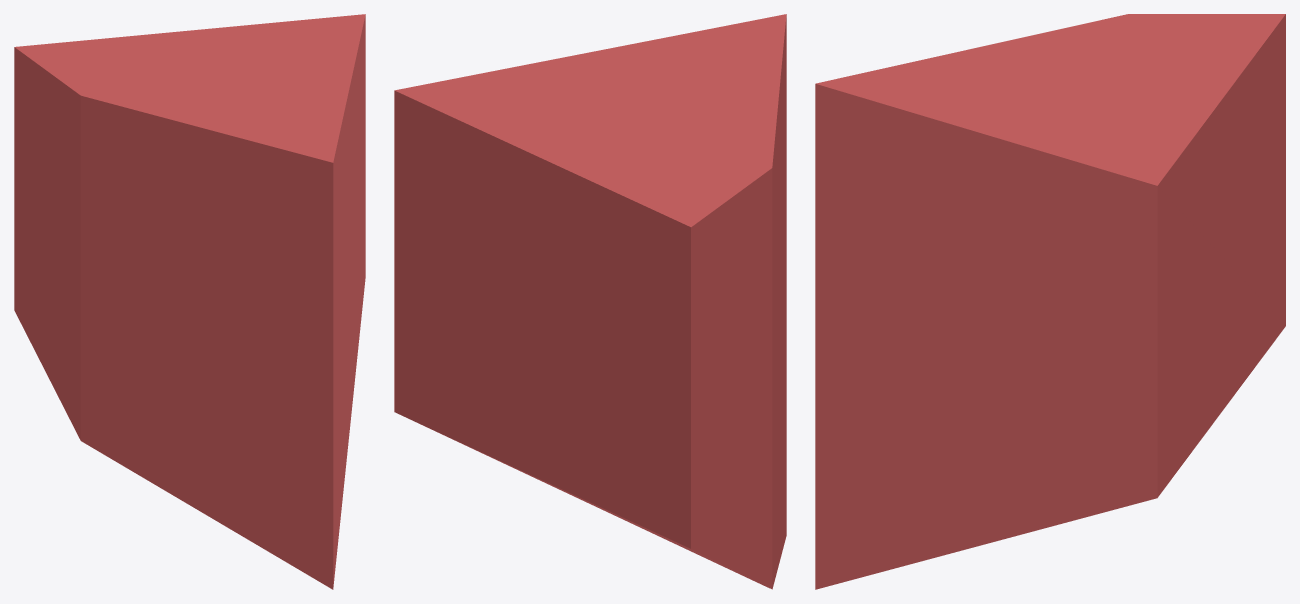
3 renders of one model, left to right at view 1: azimuth 30°, elevation 25°; view 2: azimuth 150°, elevation 25°; view 3: azimuth 270°, elevation 25°, orthographic. The views are drawn at different scales.
Parts seen in each view (by area): view 1: kb3_i_col; view 2: kb3_i_col; view 3: kb3_i_col.
Part boxes in pixels (box(x1,y1,x2,y2)): kb3_i_col: box(14, 14, 365, 589); kb3_i_col: box(394, 14, 786, 589); kb3_i_col: box(815, 14, 1285, 589).
Bounding box in the file's own units: 1.9 × 2.61 × 2.2.
